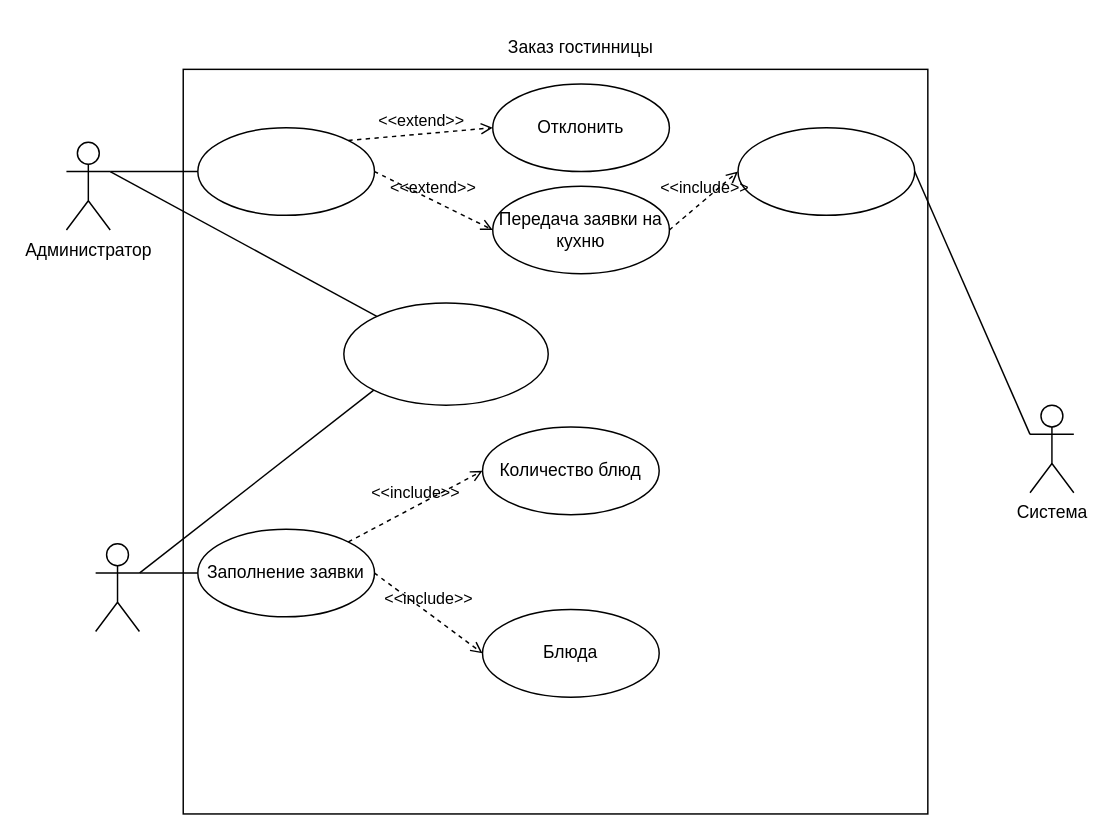
This 1113x840 diagram has some shape labels left out. The box of each missing label's shape, as (x1, y1, x2, y2) in pixels:
Выставление счёта: (737, 126, 915, 215)
Клиент: (94, 542, 139, 631)
Принять заявку: (196, 126, 374, 215)
Просмотр счёта: (342, 301, 548, 405)
